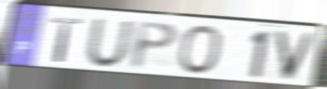1: (249, 28, 273, 79)
O: (176, 23, 224, 76)
P: (129, 20, 180, 73)
T: (49, 15, 85, 64)
U: (85, 18, 135, 69)
V: (273, 28, 319, 83)
